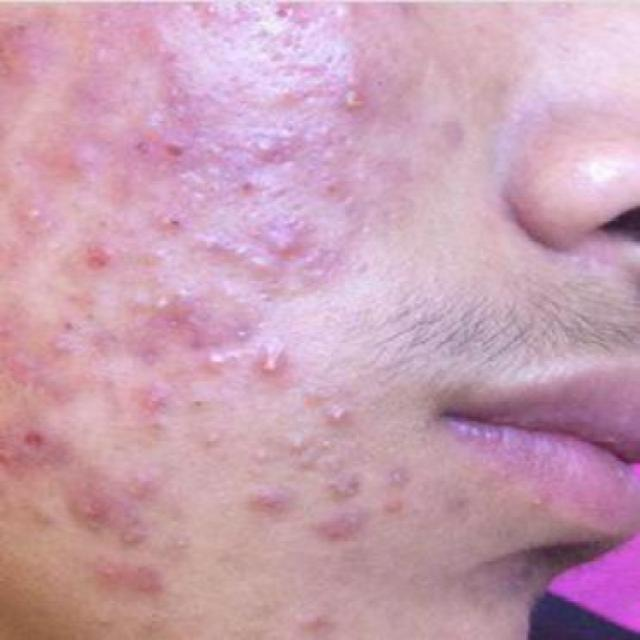blackheads: (148, 123, 206, 174), (231, 164, 276, 210), (226, 168, 279, 203), (155, 200, 204, 234)
papules: (78, 545, 136, 597), (260, 217, 314, 261), (116, 462, 169, 506), (248, 131, 294, 166), (250, 477, 292, 514)
pustules: (186, 334, 254, 380), (333, 72, 383, 123), (340, 77, 390, 120), (255, 345, 290, 389), (521, 484, 566, 516), (321, 392, 355, 430), (321, 397, 359, 428), (197, 426, 230, 454), (245, 445, 274, 466)
